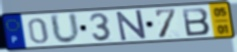0: (26, 17, 51, 45)
3: (89, 12, 114, 43)
7: (154, 7, 178, 39)
B: (180, 6, 212, 37)
N: (115, 9, 148, 42)
U: (48, 12, 82, 46)
